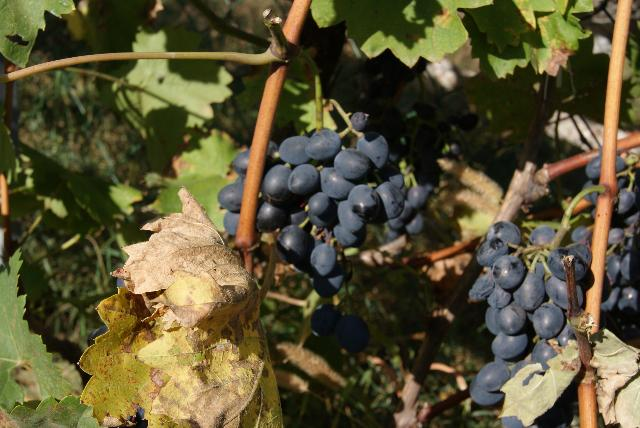grapes: (256, 129, 418, 299), (469, 221, 591, 405)
